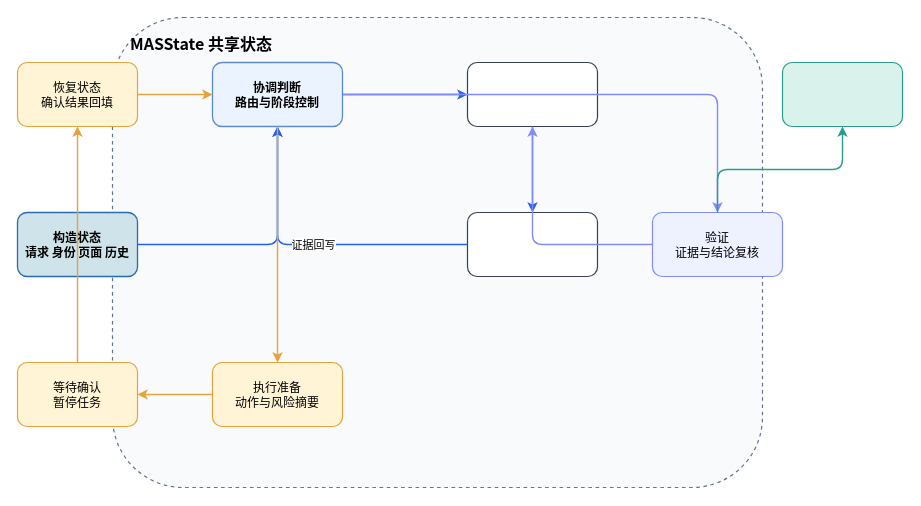
Image size: 921x506. Some labels were removed from this diagram. The shapes that lost their labels are listed below. From the top down, each one's box as (x1, y1, x2, y2) in pixels, then its label:
(466, 61, 598, 127): 规划 步骤与候选工具
(781, 61, 903, 127): 总结 回答与审计记录
(466, 211, 598, 277): 取证 只读工具与证据
